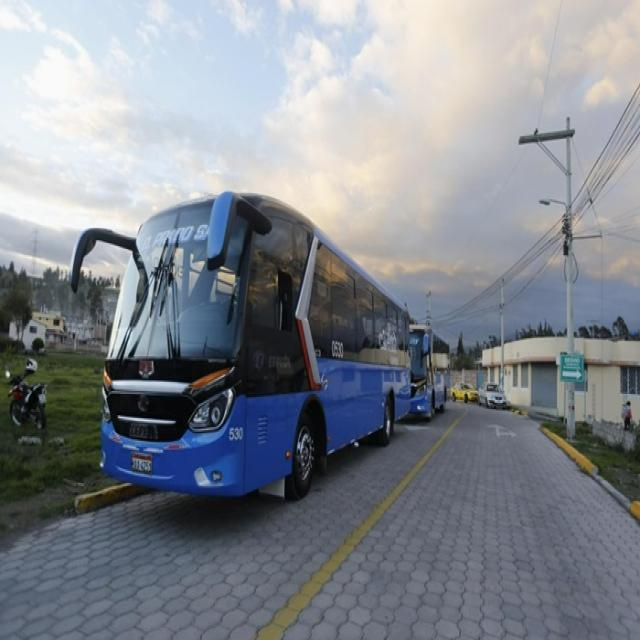BUS: (102, 195, 416, 508)
